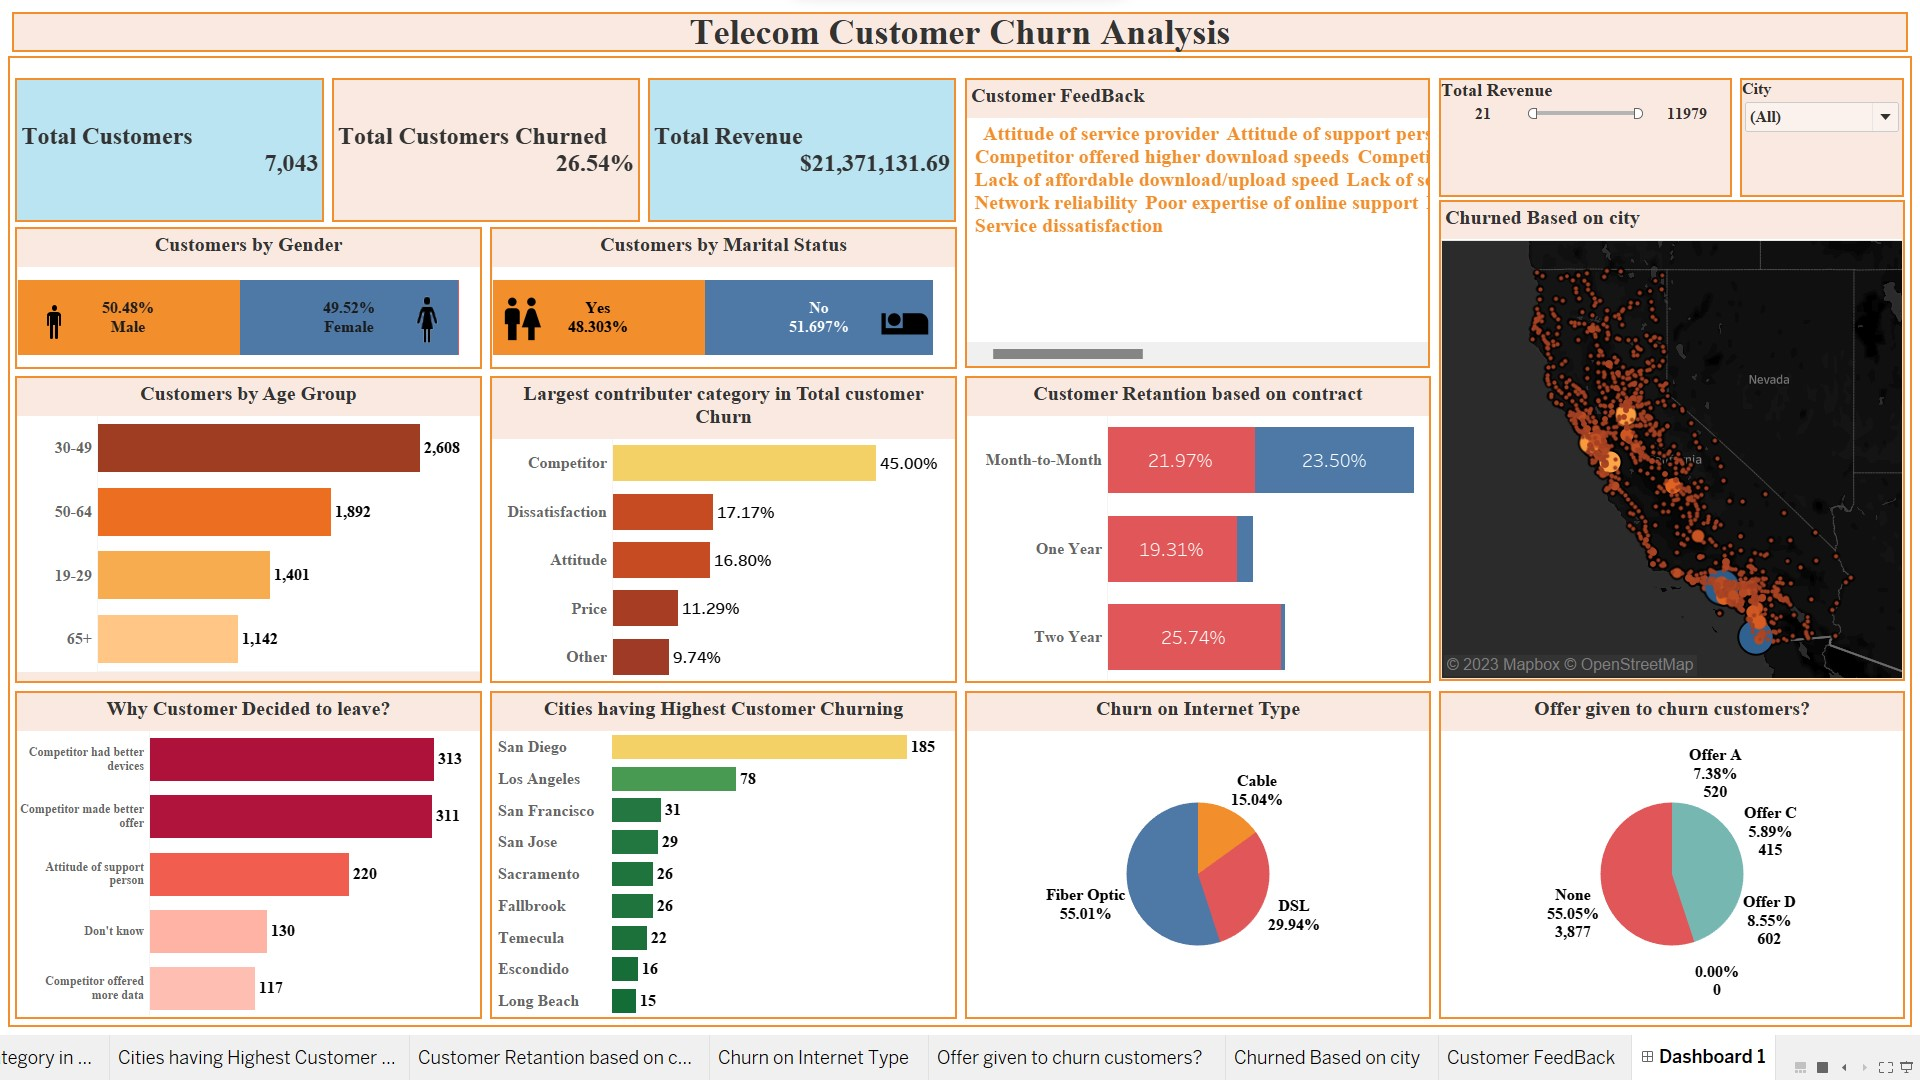

Layout of this report page (visuals, bound fields, positions):
{"tool":"tableau","page":{"name":"Dashboard 1","canvas":[1000,1000],"units":"permille","ordinal":0},"visuals":[{"type":"title","box":[5,9.9,990,59.6]},{"type":"worksheet","title":"Total Customers","mark":"Automatic","box":[5.6,72,165.2,146.4]},{"type":"worksheet","title":"Total Customers churned","mark":"Automatic","rows":["Customer Status"],"box":[170.8,72,164.6,146.4]},{"type":"worksheet","title":"Total Revenue","mark":"Automatic","box":[335.4,72,164.6,146.4]},{"type":"worksheet","title":"Customer FeedBack","mark":"Automatic","box":[500.6,72,246.3,287.8]},{"type":"filter","title":"Total Revenue","param":"[federated.0x1ts76091p5uu1f0bdod077kpjl].[none:Total Revenue:qk]","box":[747.5,72,139,122.8]},{"type":"filter","title":"Churned Based on city","param":"[federated.0x1ts76091p5uu1f0bdod077kpjl].[none:City:nk]","box":[886.5,72,107.2,122.8]},{"type":"worksheet","title":"Churned Based on city","mark":"Automatic","box":[747.5,189.8,246.9,472.7]},{"type":"worksheet","title":"Customers by Gender","mark":"Automatic","box":[5.6,215.9,247.5,145.2]},{"type":"worksheet","title":"Customers by Marital Status","mark":"Automatic","box":[253.1,215.9,247.5,145.2]},{"type":"image","param":"C:/Program Files/Tableau/Tableau 2019.2/defaults/Shapes/Gender/1.png","box":[10,281.6,37.4,59.6]},{"type":"image","param":"C:/Program Files/Tableau/Tableau 2019.2/defaults/Shapes/Gender/2.png","box":[208.8,282.9,28.1,58.3]},{"type":"image","param":"D:/Pranjal Sir/irfan sir/Tableau Material/MaterialDesign/Material Notification/i","box":[258.1,282.9,26.8,55.8]},{"type":"image","param":"D:/Pranjal Sir/irfan sir/Tableau Material/MaterialDesign/Material Notification/i","box":[457.6,287.8,27.4,49.6]},{"type":"worksheet","title":"Customers by Age Group","mark":"Automatic","rows":["Calculation_889742425756725249"],"cols":["Customer ID"],"box":[5.6,359.8,247.5,304]},{"type":"worksheet","title":"Largest contributer category in Total customer Churn","mark":"Automatic","rows":["Churn Category"],"cols":["Customer ID"],"box":[253.1,359.8,247.5,304]},{"type":"worksheet","title":"Customer Retantion based on contract","mark":"Automatic","rows":["Contract"],"box":[500.6,359.8,246.9,304]},{"type":"worksheet","title":"Why Customer Decided to leave?","mark":"Automatic","rows":["Churn Reason"],"cols":["Customer ID"],"box":[5.6,663.8,247.5,325.1]},{"type":"worksheet","title":"Cities having Highest Customer Churning","mark":"Automatic","rows":["Customer Status","City"],"cols":["Customer ID"],"box":[253.1,663.8,247.5,325.1]},{"type":"worksheet","title":"Churn on Internet Type","mark":"Pie","box":[500.6,663.8,246.9,325.1]},{"type":"worksheet","title":"Offer given to churn customers?","mark":"Pie","box":[747.5,663.8,246.9,325.1]}]}

Visuals, with their boxes on the dashboard's canvas, which has no fixed pixel size, in thousandths of its width and height (x1, y1, x2, y2). These are canvas units, not pixel positions in the 1920x1080 screenshot, which may show the page scaled, cropped or inside an application window:
title: [5,10,995,70]
"Total Customers" worksheet: [6,72,171,218]
"Total Customers churned" worksheet: [171,72,335,218]
"Total Revenue" worksheet: [335,72,500,218]
"Customer FeedBack" worksheet: [501,72,747,360]
"Total Revenue" filter: [748,72,886,195]
"Churned Based on city" filter: [886,72,994,195]
"Churned Based on city" worksheet: [748,190,994,662]
"Customers by Gender" worksheet: [6,216,253,361]
"Customers by Marital Status" worksheet: [253,216,501,361]
image: [10,282,47,341]
image: [209,283,237,341]
image: [258,283,285,339]
image: [458,288,485,337]
"Customers by Age Group" worksheet: [6,360,253,664]
"Largest contributer category in Total customer Churn" worksheet: [253,360,501,664]
"Customer Retantion based on contract" worksheet: [501,360,748,664]
"Why Customer Decided to leave?" worksheet: [6,664,253,989]
"Cities having Highest Customer Churning" worksheet: [253,664,501,989]
"Churn on Internet Type" worksheet (Pie marks): [501,664,748,989]
"Offer given to churn customers?" worksheet (Pie marks): [748,664,994,989]
